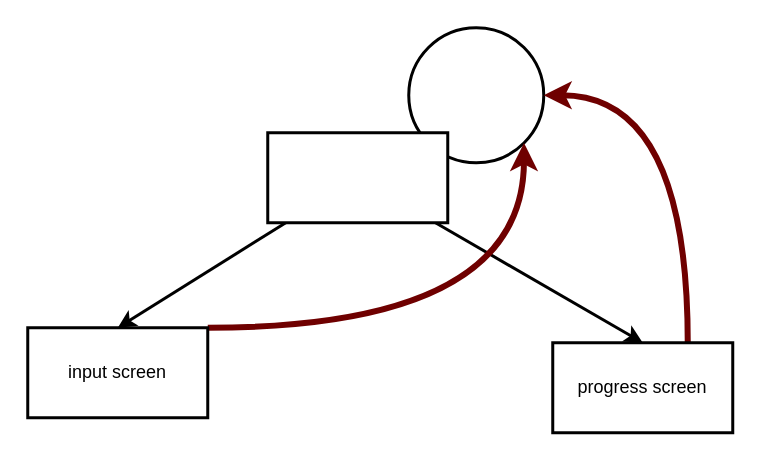
This 759x459 diagram has some shape labels left out. The shapes that lost their labels are listed below. From the top down, each one's centre as x and y in pixels, then its label:
At (475,95): "ticker state+player".
At (357,177): "ticker widget".
